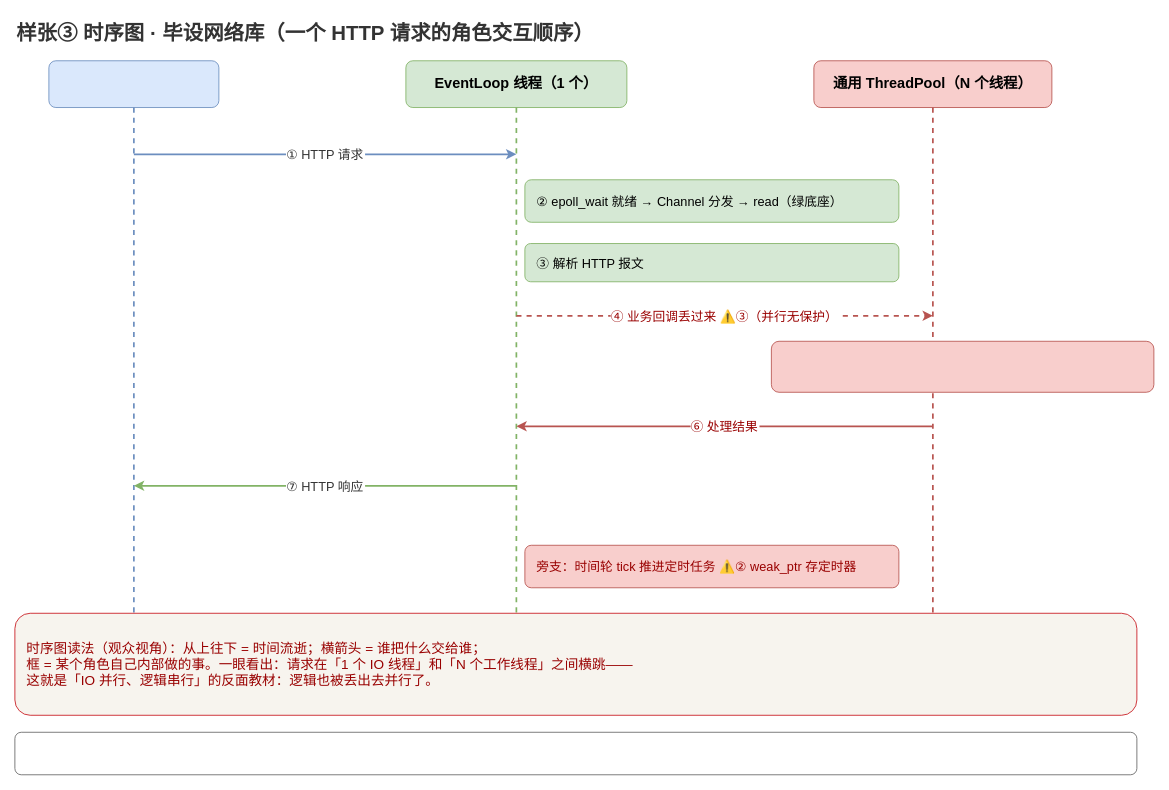
Image size: 1169x790. Some labels were removed from this diagram. Here are the shapes that lost their labels. From the top down, the box of each, then its label:
(48, 60, 219, 108): 客户端
(771, 340, 1154, 392): ⑤ N 个线程同时处理不同请求 ⚠️ 都可能改同一份共享状态 —— 状态竞争
(14, 731, 1137, 775): 色标：绿=可用底座 红=隐患节点 蓝=外部角色
